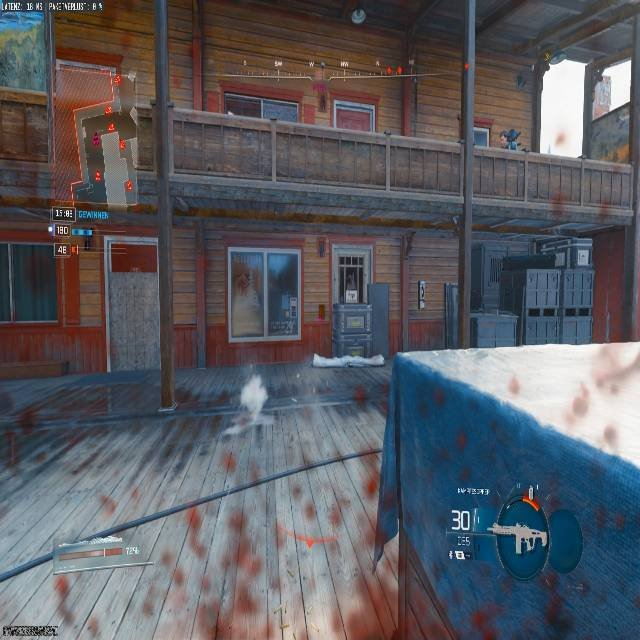head: (506, 128, 520, 140)
player: (497, 128, 528, 150)
